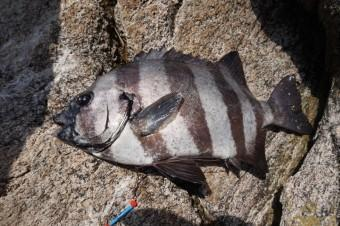fish: (54, 49, 312, 195)
